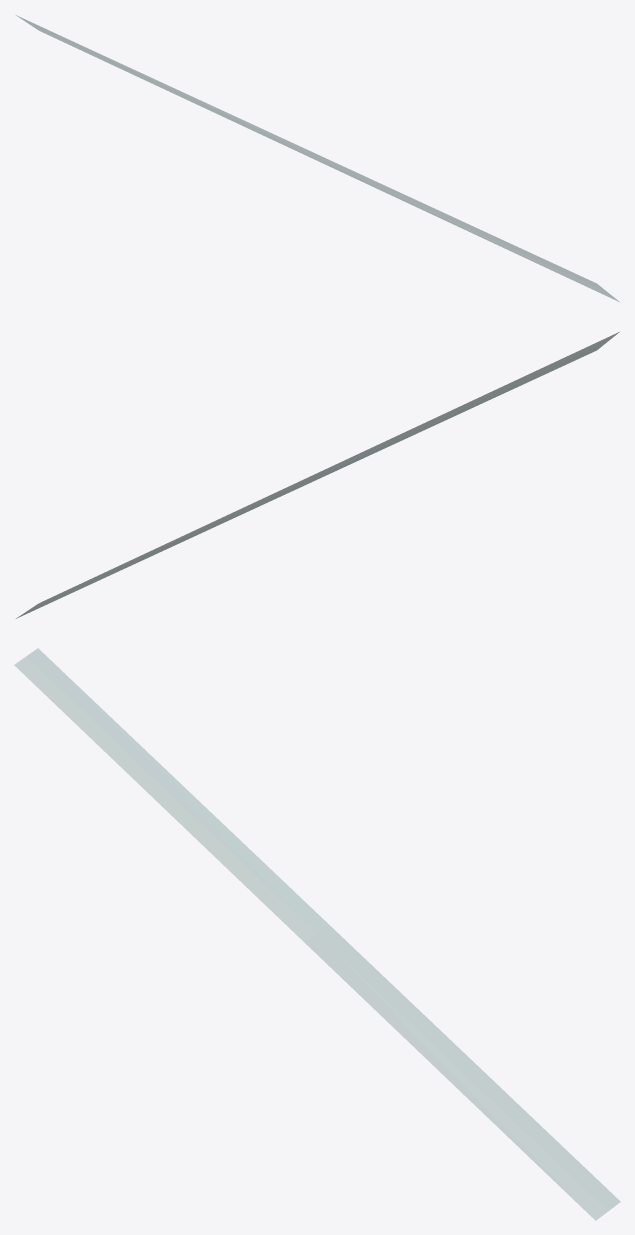
Rendered from zcb003-geode.glb.
3 renders of one model, top to bottom at view 1: azimuth 30°, elevation 25°; view 2: azimuth 150°, elevation 25°; view 3: azimuth 330°, elevation 25°, orthographic.
Parts seen in each view (by area): view 1: Node; view 2: Node; view 3: Node.
Part boxes in pixels (x1,y1,x2,y2): Node: [16, 15, 619, 301]; Node: [16, 332, 619, 618]; Node: [14, 648, 620, 1220].
Bounding box in the file's own units: 1.58 × 1.07 × 0.1156.
Materials: 1 (1 with a texture image).
